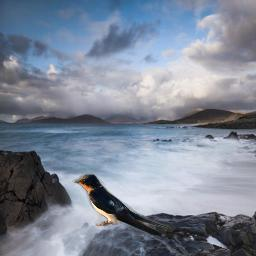Swallow: (72, 171, 176, 238)
